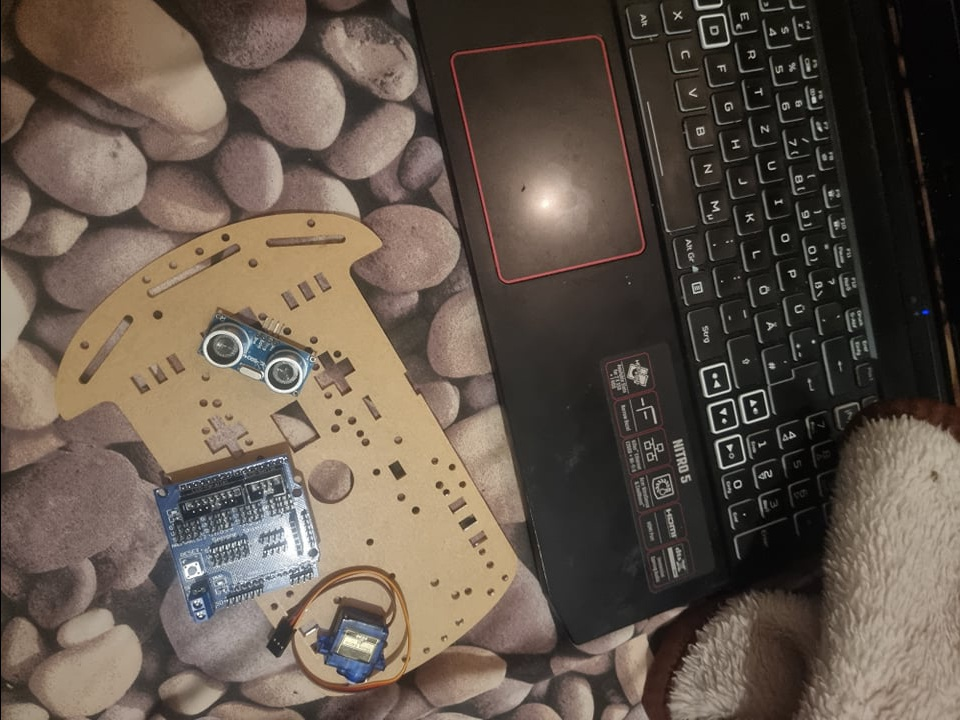5V EXPANSION: (149, 456, 317, 623)
SENSOR: (199, 307, 315, 399)
